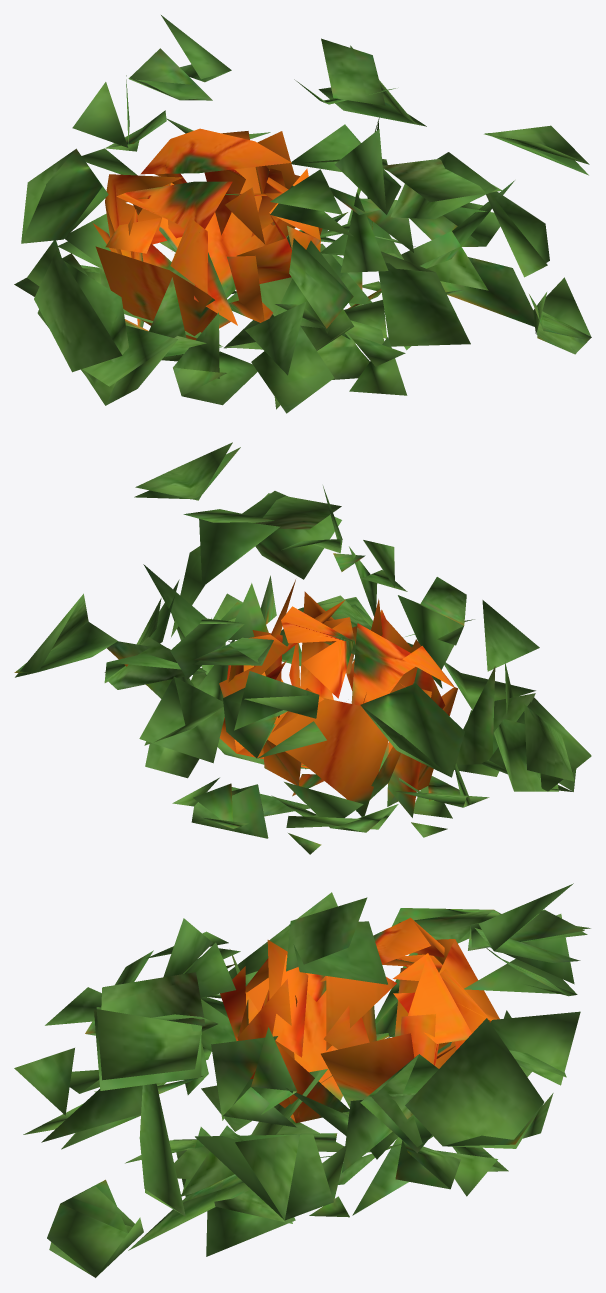
The model's file is crop-pumpkin.lod1.glb.
3 renders of one model, top to bottom at view 1: azimuth 30°, elevation 25°; view 2: azimuth 150°, elevation 25°; view 3: azimuth 270°, elevation 25°, orthographic. The views are drawn at different scales.
Visible parts, largest first — view 1: plant.001, fruit.001; view 2: plant.001, fruit.001; view 3: plant.001, fruit.001.
Part boxes in pixels (x1,y1,x2,y2): plant.001: (14, 15, 591, 413); fruit.001: (93, 128, 381, 340); plant.001: (14, 442, 591, 854); fruit.001: (219, 579, 457, 817); plant.001: (14, 883, 590, 1277); fruit.001: (220, 917, 499, 1123).
Bounding box in the file's own units: 0.9084 × 0.523 × 0.8615.
1 material, 1 textured.
